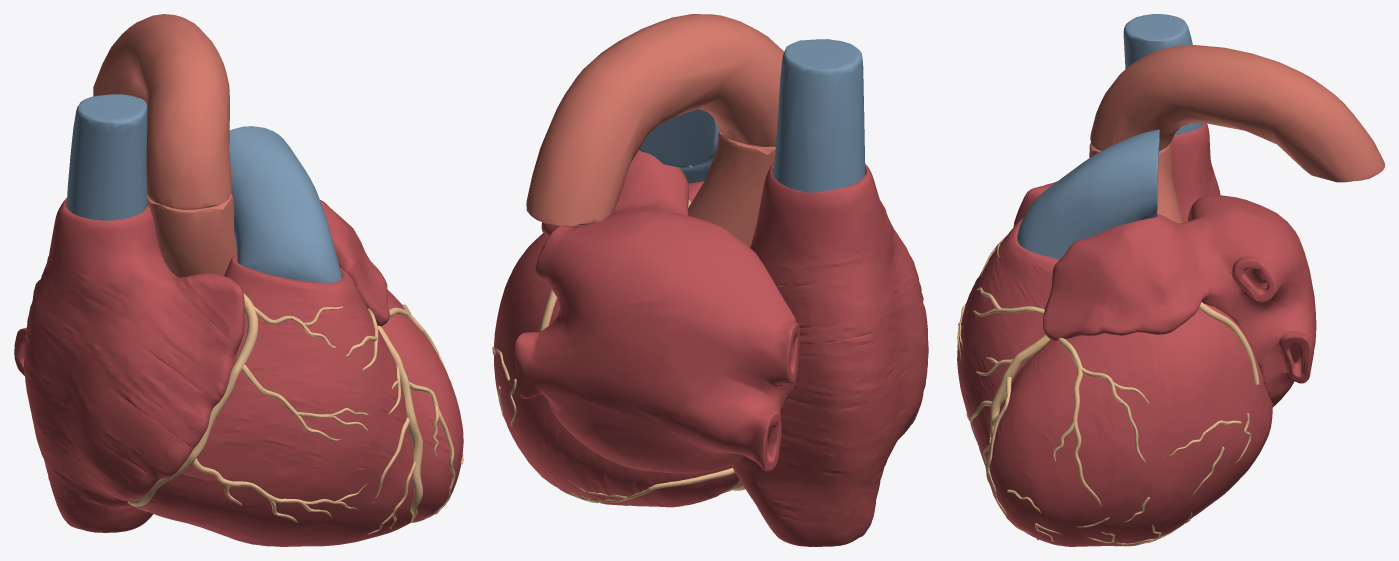
File: heart.glb
3 renders of one model, left to right at view 1: azimuth 30°, elevation 25°; view 2: azimuth 150°, elevation 25°; view 3: azimuth 270°, elevation 25°, orthographic. The views are drawn at different scales.
Visible parts, largest first — view 1: FJ2428 · wall of cardiac chamber, FJ2439 · wall of right atrium, FJ3411 · arch of aorta, FJ2966 · pulmonary trunk, FJ3645 · superior vena cava, FJ3413 · ascending aorta, FJ2438 · wall of left atrium, FJ2723 · trunk of right coronary artery, FJ2631 · trunk of branch of coronary artery, FJ2672 · anterior ventricular branch of right coronary arter, FJ2635 · diagonal branch of anterior descending branch of le, FJ2671 · anterior ventricular branch of right coronary arter; view 2: FJ2438 · wall of left atrium, FJ2439 · wall of right atrium, FJ3411 · arch of aorta, FJ2428 · wall of cardiac chamber, FJ3645 · superior vena cava, FJ3413 · ascending aorta, FJ2966 · pulmonary trunk; view 3: FJ2428 · wall of cardiac chamber, FJ2438 · wall of left atrium, FJ3411 · arch of aorta, FJ2966 · pulmonary trunk, FJ2439 · wall of right atrium, FJ3645 · superior vena cava, FJ3413 · ascending aorta, FJ2631 · trunk of branch of coronary artery, FJ2642 · diagonal branch of anterior descending branch of le, FJ2649 · circumflex branch of left coronary artery, FJ2635 · diagonal branch of anterior descending branch of le, FJ2633 · diagonal branch of anterior descending branch of le.
Part boxes in pixels (x1=…): FJ2428 · wall of cardiac chamber: x1=136, y1=254, x2=463, y2=546; FJ2439 · wall of right atrium: x1=23, y1=198, x2=244, y2=532; FJ3411 · arch of aorta: x1=93, y1=14, x2=231, y2=209; FJ2966 · pulmonary trunk: x1=229, y1=126, x2=342, y2=282; FJ3645 · superior vena cava: x1=66, y1=94, x2=147, y2=220; FJ3413 · ascending aorta: x1=147, y1=193, x2=236, y2=277; FJ2438 · wall of left atrium: x1=14, y1=200, x2=389, y2=375; FJ2723 · trunk of right coronary artery: x1=127, y1=293, x2=258, y2=511; FJ2631 · trunk of branch of coronary artery: x1=377, y1=325, x2=422, y2=522; FJ2672 · anterior ventricular branch of right coronary arter: x1=192, y1=458, x2=331, y2=517; FJ2635 · diagonal branch of anterior descending branch of le: x1=409, y1=381, x2=455, y2=518; FJ2671 · anterior ventricular branch of right coronary arter: x1=242, y1=364, x2=340, y2=440; FJ2438 · wall of left atrium: x1=514, y1=150, x2=799, y2=473; FJ2439 · wall of right atrium: x1=731, y1=163, x2=928, y2=546; FJ3411 · arch of aorta: x1=526, y1=14, x2=783, y2=226; FJ2428 · wall of cardiac chamber: x1=494, y1=181, x2=742, y2=507; FJ3645 · superior vena cava: x1=773, y1=39, x2=865, y2=192; FJ3413 · ascending aorta: x1=688, y1=131, x2=775, y2=247; FJ2966 · pulmonary trunk: x1=639, y1=109, x2=719, y2=183; FJ2428 · wall of cardiac chamber: x1=957, y1=218, x2=1272, y2=546; FJ2438 · wall of left atrium: x1=1043, y1=195, x2=1316, y2=407; FJ3411 · arch of aorta: x1=1090, y1=45, x2=1384, y2=182; FJ2966 · pulmonary trunk: x1=1017, y1=129, x2=1159, y2=259; FJ2439 · wall of right atrium: x1=1013, y1=123, x2=1220, y2=226; FJ3645 · superior vena cava: x1=1123, y1=14, x2=1203, y2=134; FJ3413 · ascending aorta: x1=1089, y1=143, x2=1182, y2=223; FJ2631 · trunk of branch of coronary artery: x1=986, y1=334, x2=1050, y2=485; FJ2642 · diagonal branch of anterior descending branch of le: x1=1058, y1=338, x2=1101, y2=506; FJ2649 · circumflex branch of left coronary artery: x1=1198, y1=302, x2=1259, y2=386; FJ2635 · diagonal branch of anterior descending branch of le: x1=985, y1=377, x2=1011, y2=520; FJ2633 · diagonal branch of anterior descending branch of le: x1=1081, y1=367, x2=1145, y2=462.
Size of the model in its own units: 2.71 by 3.35 by 2.97.
